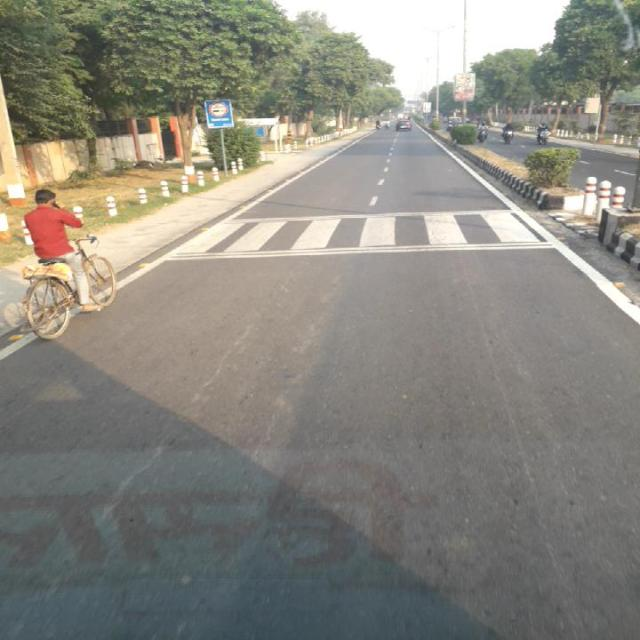D00: (20, 318, 266, 586), (454, 271, 566, 582)
